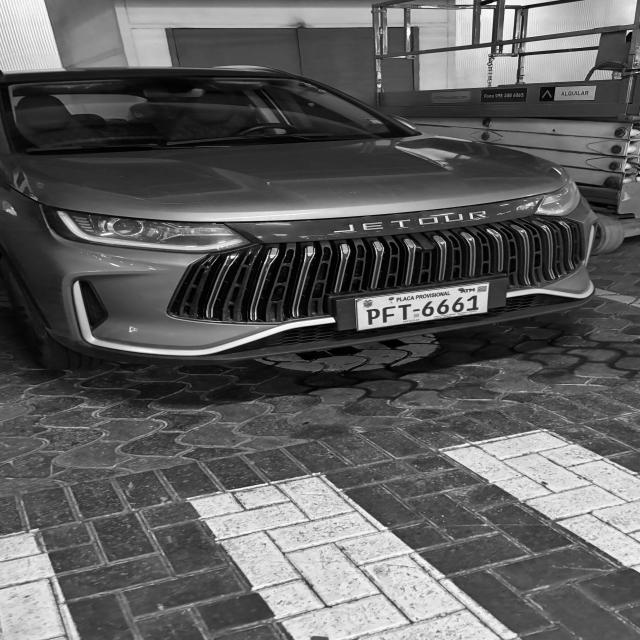Placa: (356, 283, 489, 330)
